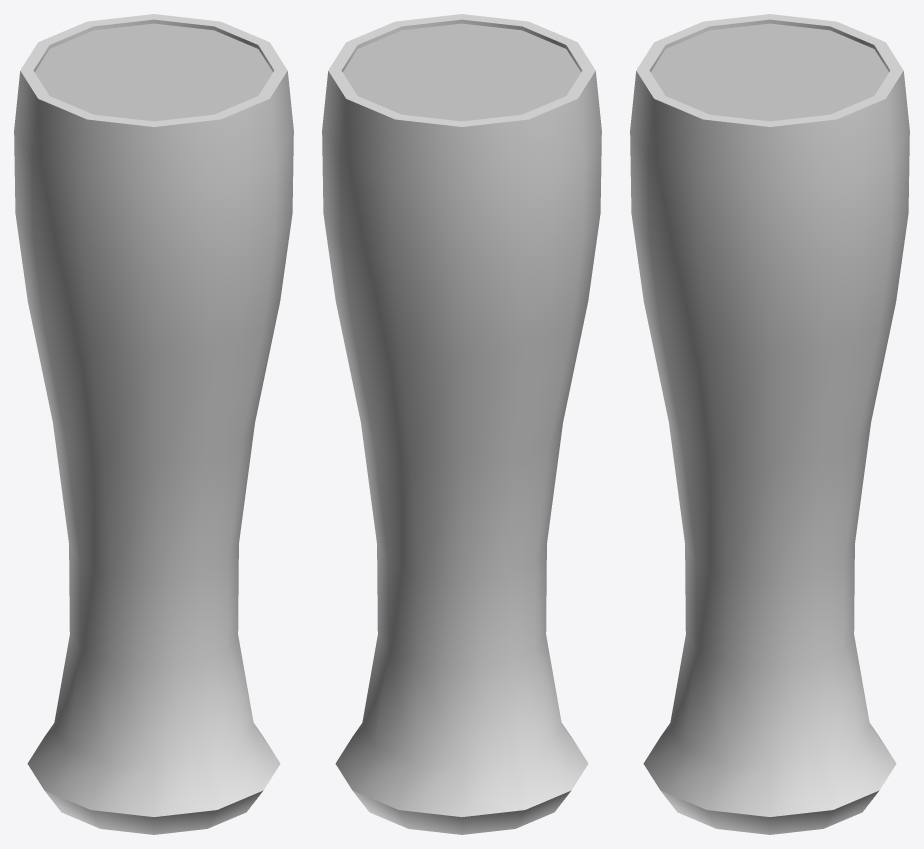
Rendered from GlassOfBeer_01.fbx.
3 renders of one model, left to right at view 1: azimuth 30°, elevation 25°; view 2: azimuth 150°, elevation 25°; view 3: azimuth 270°, elevation 25°, orthographic.
Parts seen in each view (by area): view 1: GlassOfBeer_01; view 2: GlassOfBeer_01; view 3: GlassOfBeer_01.
Part boxes in pixels (x1,y1,x2,y2): GlassOfBeer_01: [14, 14, 293, 834]; GlassOfBeer_01: [322, 14, 601, 834]; GlassOfBeer_01: [630, 14, 909, 834].
Size of the model in its own units: 0.1094 by 0.3103 by 0.1094.
